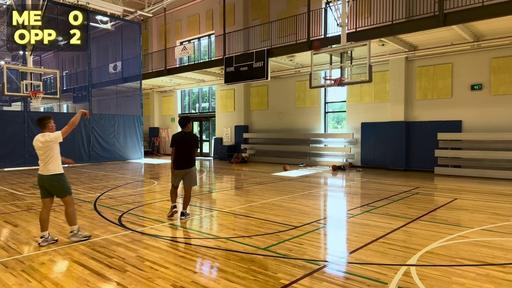ball: (312, 40, 322, 52), (282, 164, 290, 171)
human: (33, 109, 92, 248), (167, 116, 199, 220)
rim: (323, 78, 344, 90), (28, 91, 44, 106)
